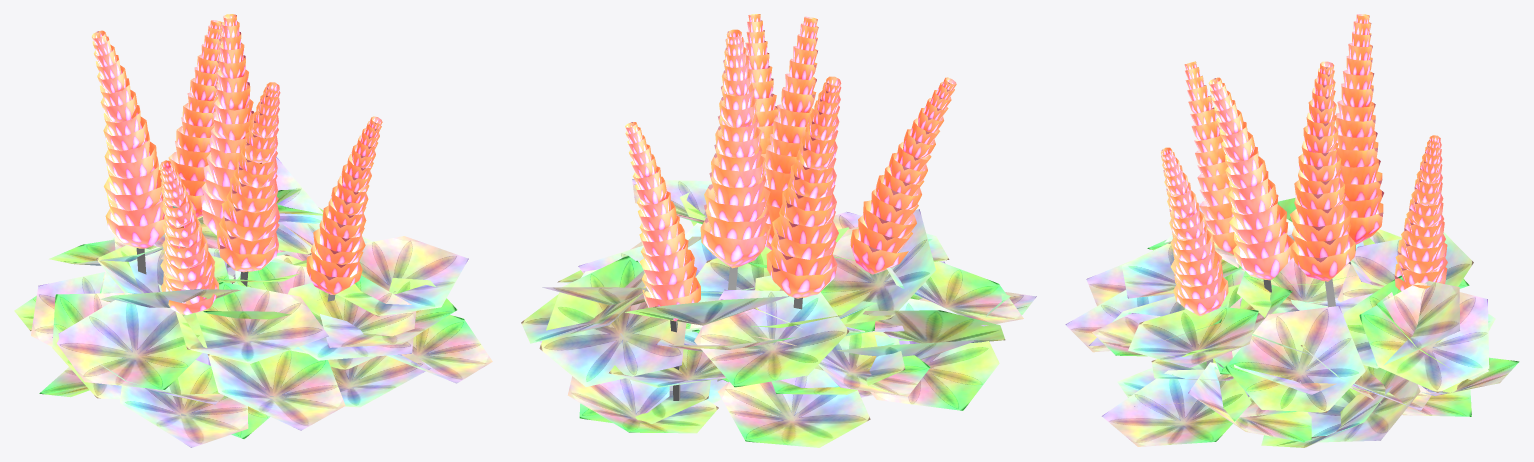
Rendered from lupin_SM.fbx.
3 renders of one model, left to right at view 1: azimuth 30°, elevation 25°; view 2: azimuth 150°, elevation 25°; view 3: azimuth 270°, elevation 25°, orthographic. The views are drawn at different scales.
Parts seen in each view (by area): view 1: lupin_SM_LOD0; view 2: lupin_SM_LOD0; view 3: lupin_SM_LOD0.
Part boxes in pixels (<box>): lupin_SM_LOD0: <box>14,14,492,447</box>; lupin_SM_LOD0: <box>521,14,1036,447</box>; lupin_SM_LOD0: <box>1065,14,1519,447</box>.
Size of the model in its own units: 199 by 206 by 167.
4 materials, 2 textured.
